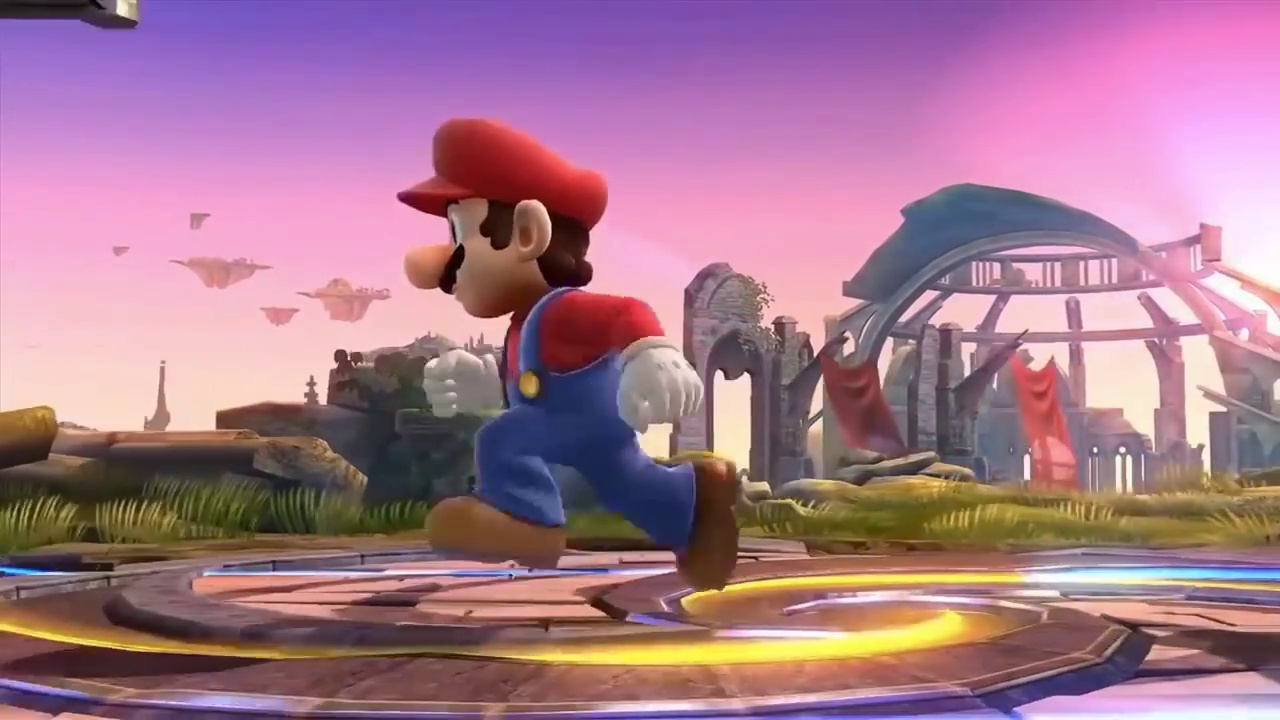Mario: (395, 117, 742, 593)
